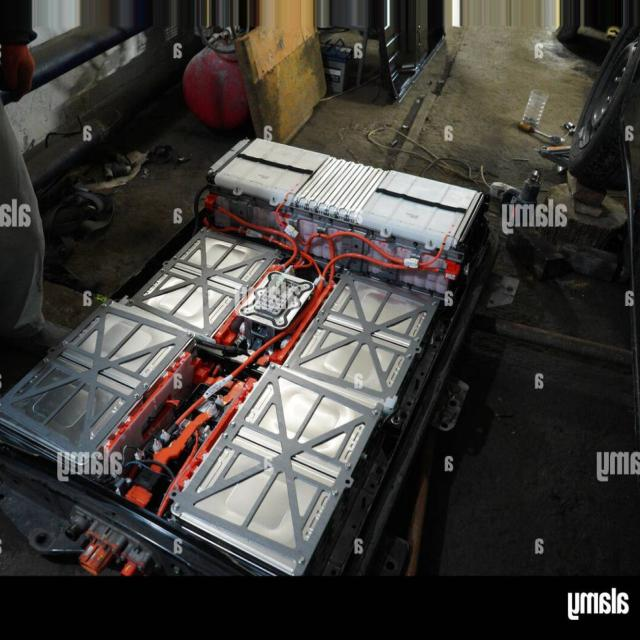Battery Module: (185, 443, 322, 555), (242, 373, 366, 465), (16, 367, 128, 447), (293, 325, 403, 397), (71, 313, 179, 386), (361, 172, 470, 236), (331, 280, 426, 344), (218, 140, 324, 193), (138, 274, 234, 332), (173, 235, 270, 285)
Bolt: (100, 302, 116, 321), (184, 327, 196, 346), (326, 485, 341, 500), (334, 270, 345, 288), (170, 497, 182, 512), (295, 554, 307, 568), (427, 297, 438, 312), (228, 418, 240, 431), (132, 390, 142, 405), (370, 407, 380, 421), (320, 304, 330, 318), (284, 358, 291, 376), (413, 334, 423, 346), (406, 349, 414, 364), (40, 356, 52, 366), (170, 249, 180, 261), (343, 459, 352, 472), (61, 335, 69, 349), (314, 315, 321, 330), (218, 433, 231, 441), (267, 362, 278, 371), (197, 225, 206, 236), (142, 377, 150, 388), (159, 265, 166, 277)
Bus-bar: (275, 281, 333, 362), (158, 406, 219, 461)
Cable: (280, 232, 445, 335), (169, 335, 283, 432), (216, 204, 297, 271)
Nut: (421, 236, 438, 255), (382, 224, 391, 241), (233, 183, 241, 195), (270, 193, 276, 204)
